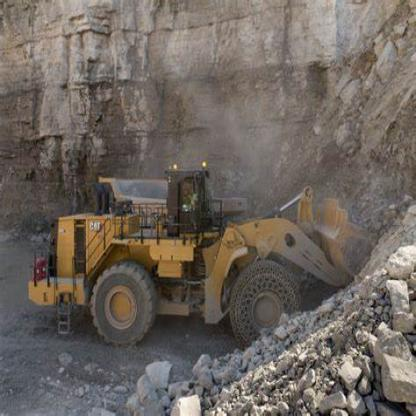bull_dozer/loader/grader: (37, 161, 366, 363)
